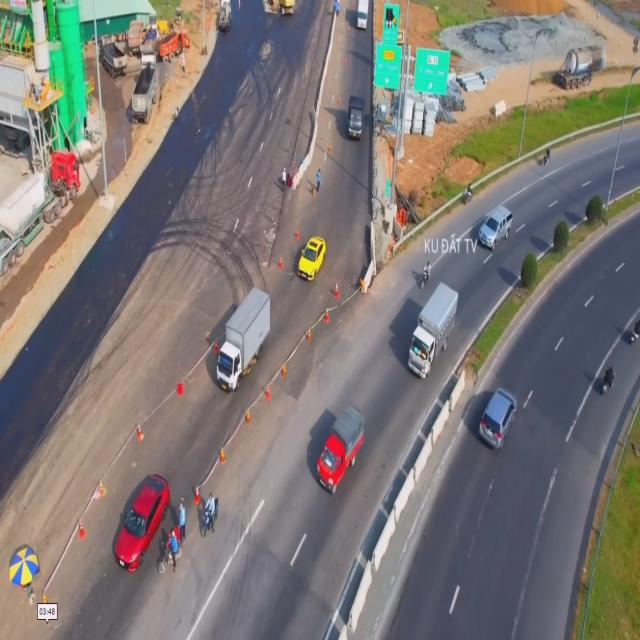car: (110, 472, 172, 572), (477, 382, 516, 453), (477, 205, 513, 252), (298, 234, 326, 282)
motorbike: (156, 532, 184, 574), (199, 493, 221, 538), (602, 365, 615, 399), (629, 320, 640, 346), (421, 260, 431, 288)
truck: (216, 286, 269, 394), (406, 281, 460, 379), (316, 399, 367, 494), (347, 95, 364, 142), (356, 0, 368, 31)
